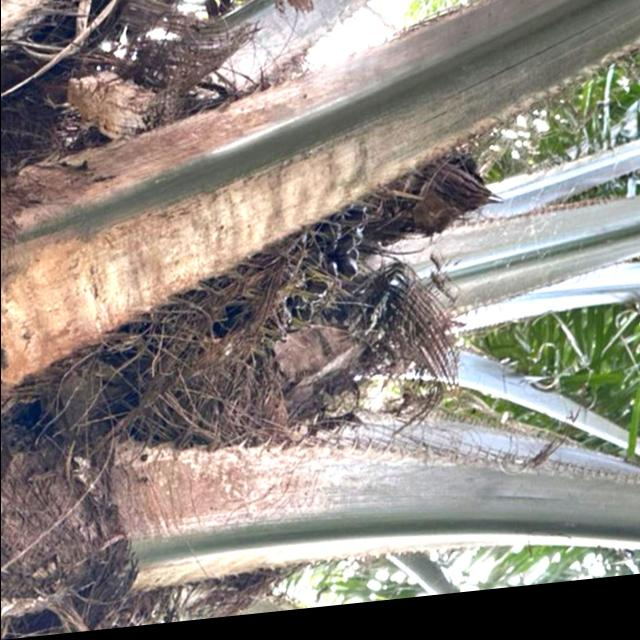unripe: (27, 172, 413, 444)
